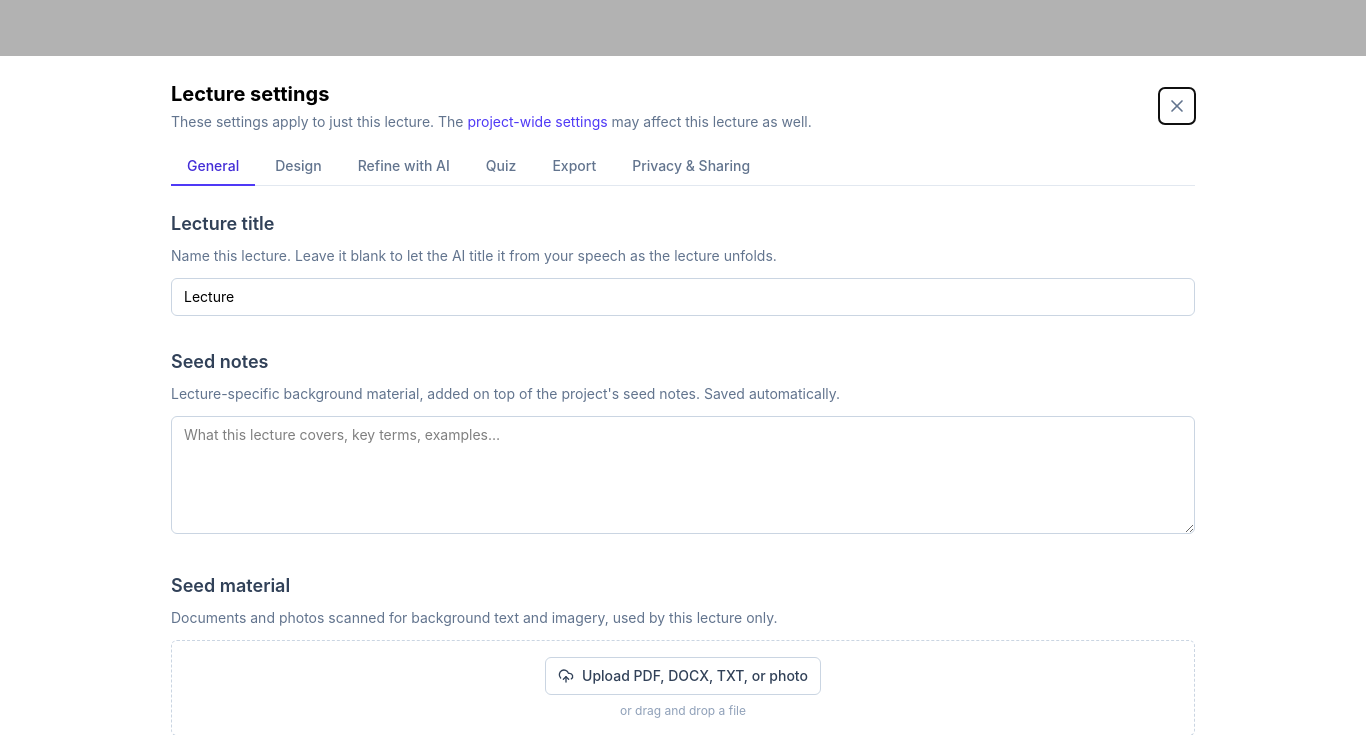
Test: DeckSettingsModal — Refine tab › advises running speaker identification per slide, not lecture-wide
The width and height of the screenshot is (1366, 735).
Click the tab "Refine with AI" at (404, 167), box [342,148,466,186]
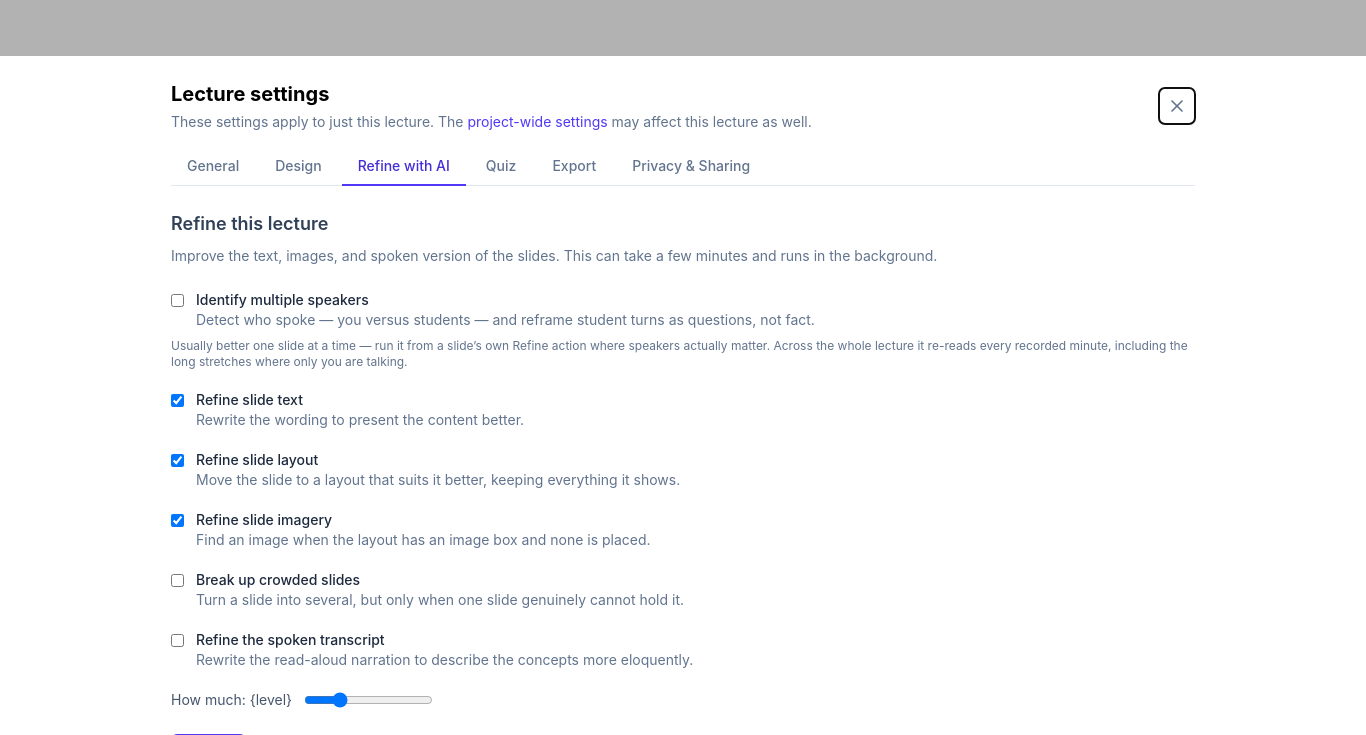
Check: the text "Usually better one slide at a time" is shown, box [171,338,1188,369]
